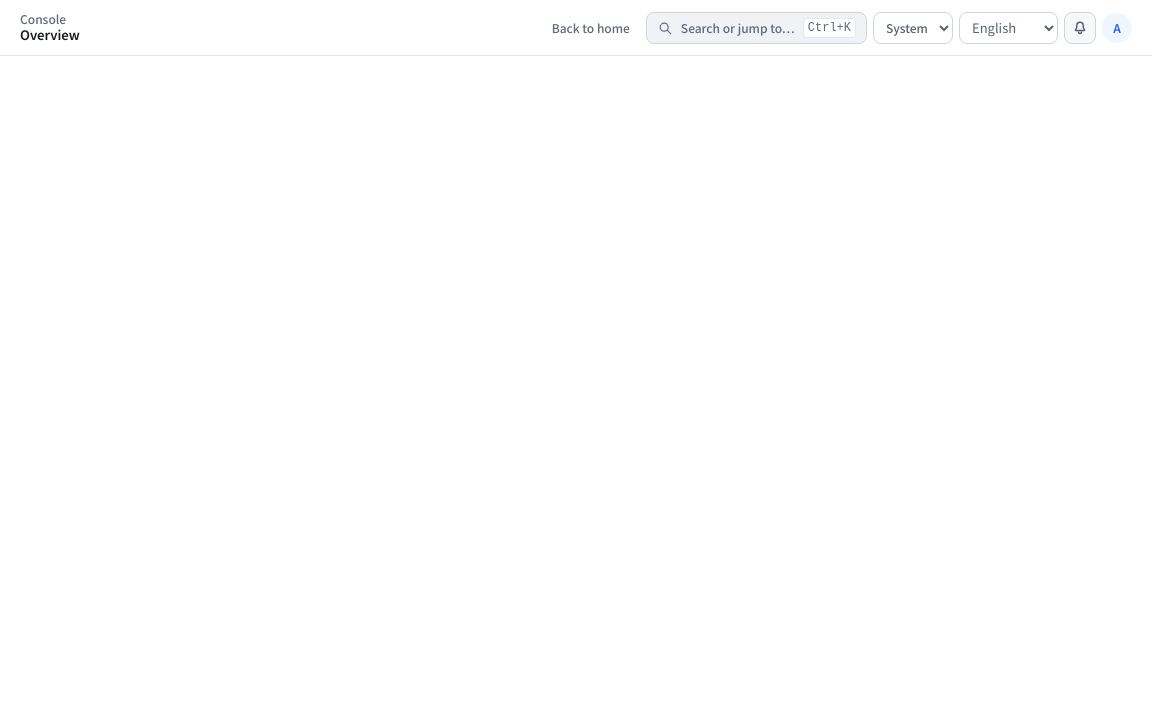
Scenario: console notification bell › disables "mark all as read" when nothing is unread
Click the button named "Notifications": [1080, 28] box [1064, 12, 1096, 44]
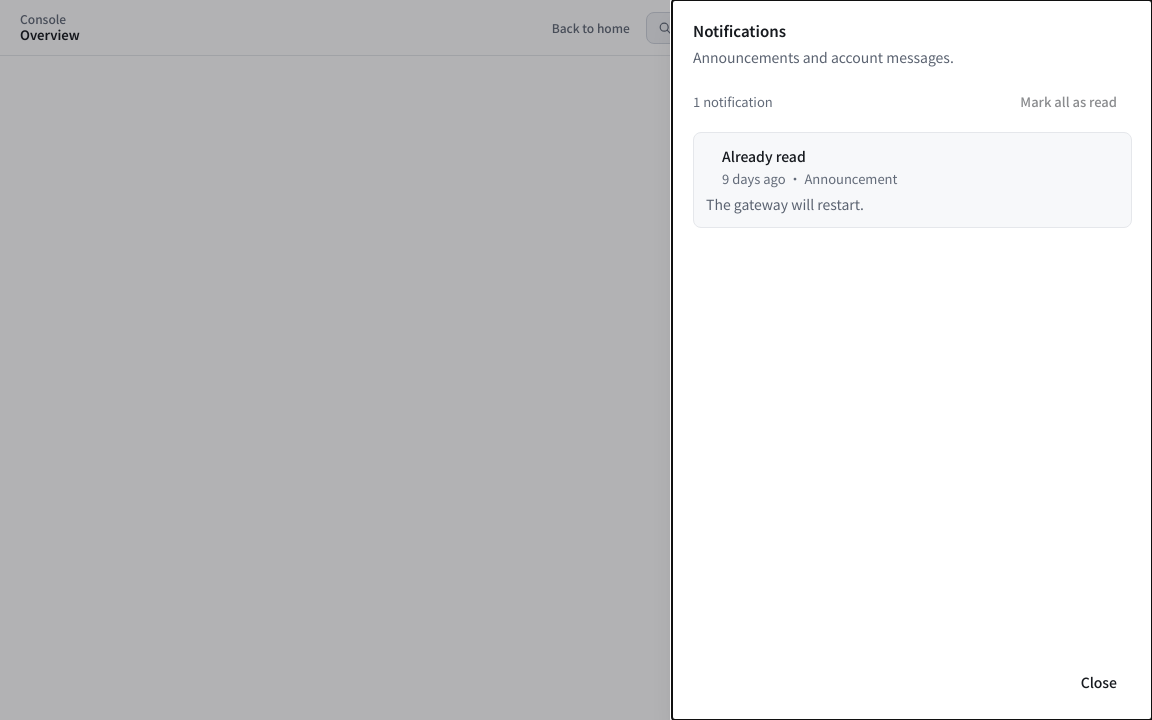
Check: the text "Already read" is shown, box [722, 146, 806, 166]
Check: the button "Mark all as read" is disabled, box [1005, 84, 1132, 120]
